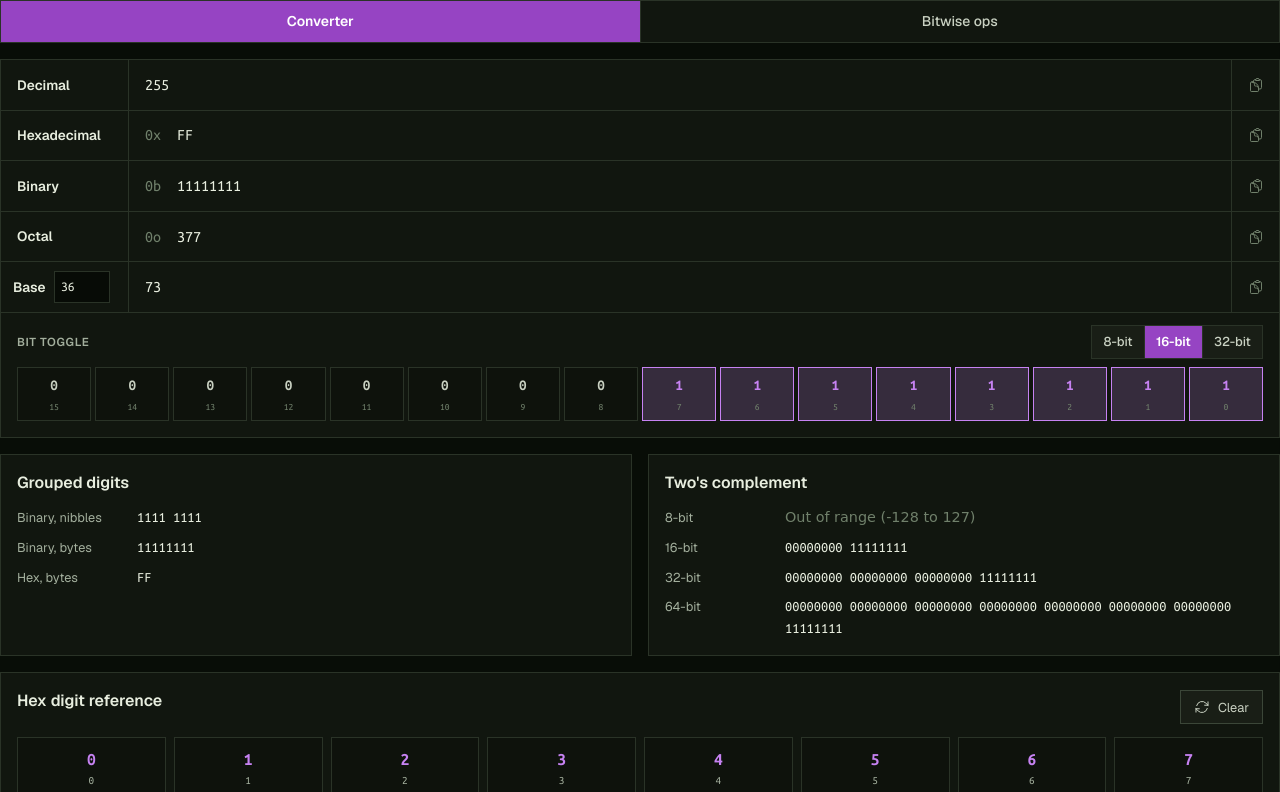
Number base converter › updates every base live and toggles bits
Replace the text in the field labelled "Hexadecimal" with "1F" at (696, 135), box x1=161 y1=111 x2=1231 y2=160
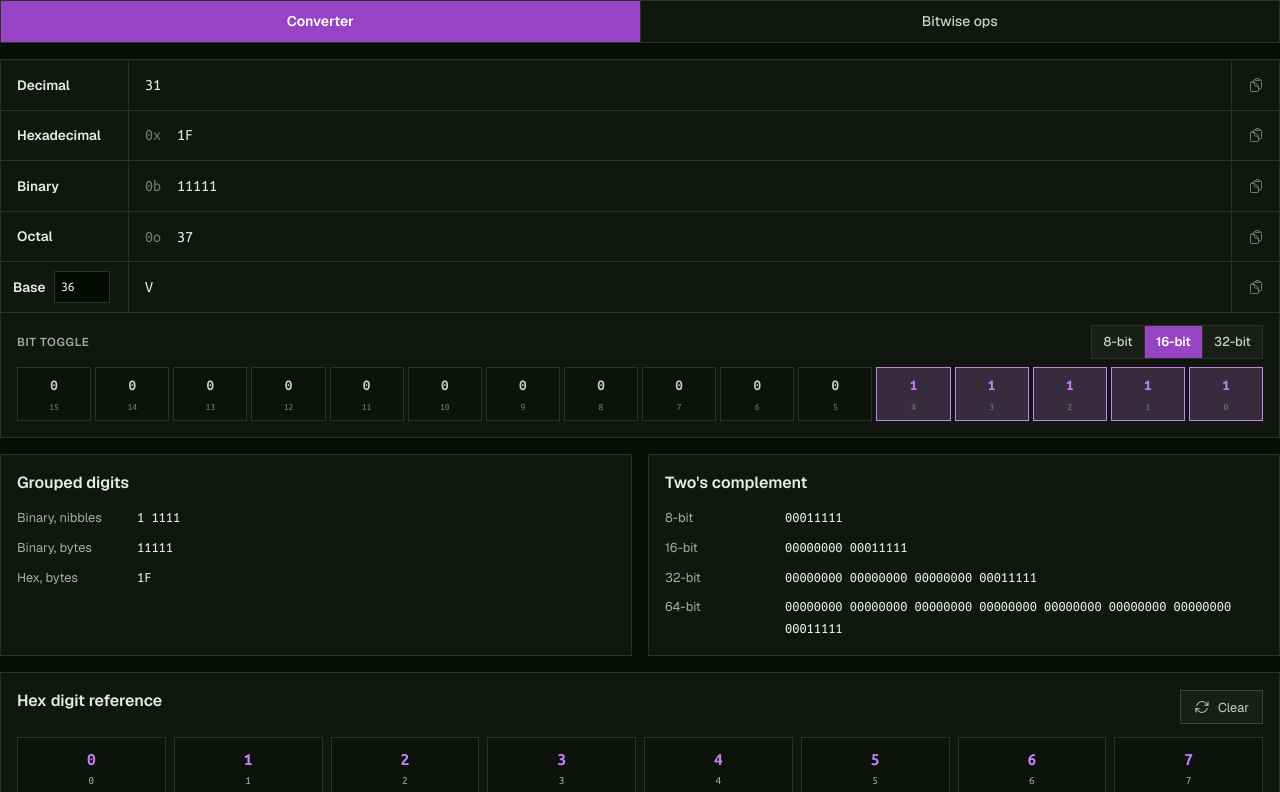
Result: the field labelled "Decimal" holds "31" at x1=129 y1=60 x2=1231 y2=110
Result: the field labelled "Binary" holds "11111" at x1=161 y1=161 x2=1231 y2=211
Click the button named "Bit 5, off" at (835, 394), box x1=798 y1=367 x2=872 y2=421
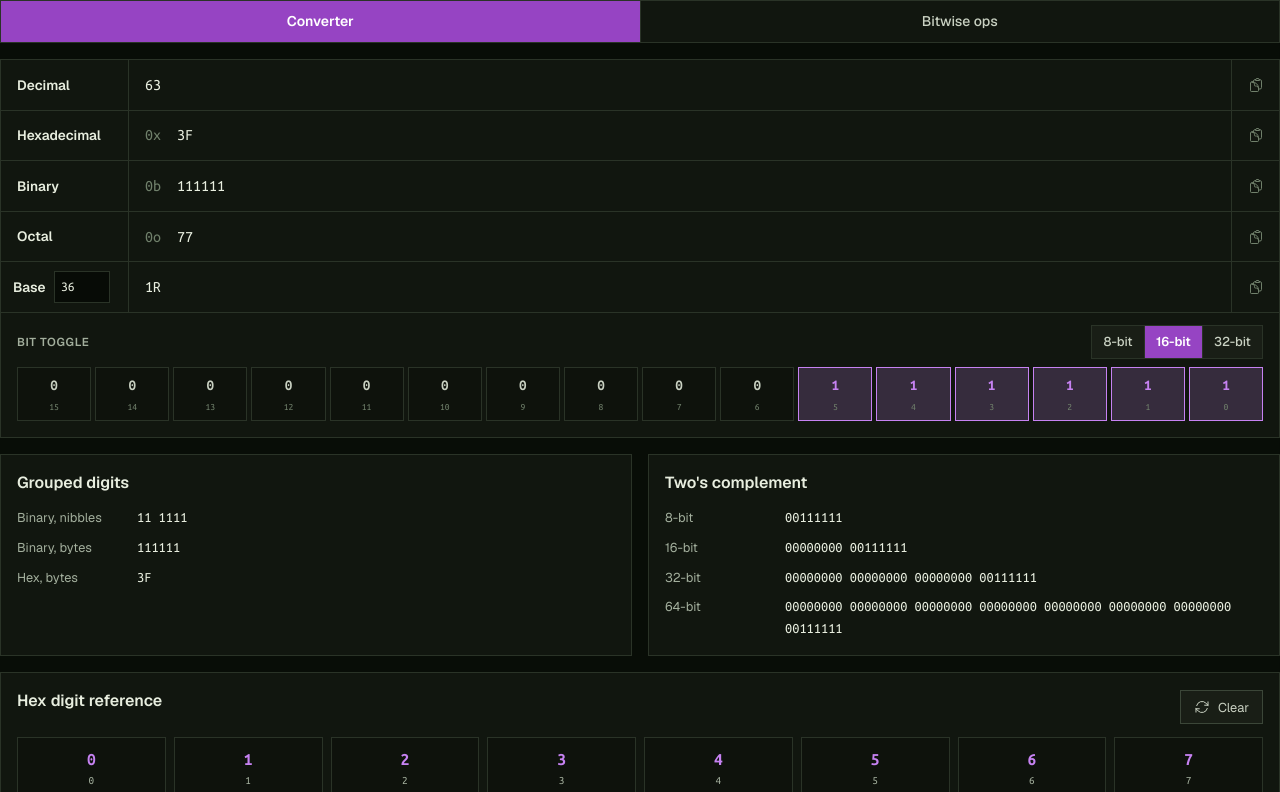
Result: the field labelled "Decimal" holds "63" at x1=129 y1=60 x2=1231 y2=110
Click the radio button labelled "Bitwise ops" at (960, 22), box x1=640 y1=1 x2=1279 y2=42
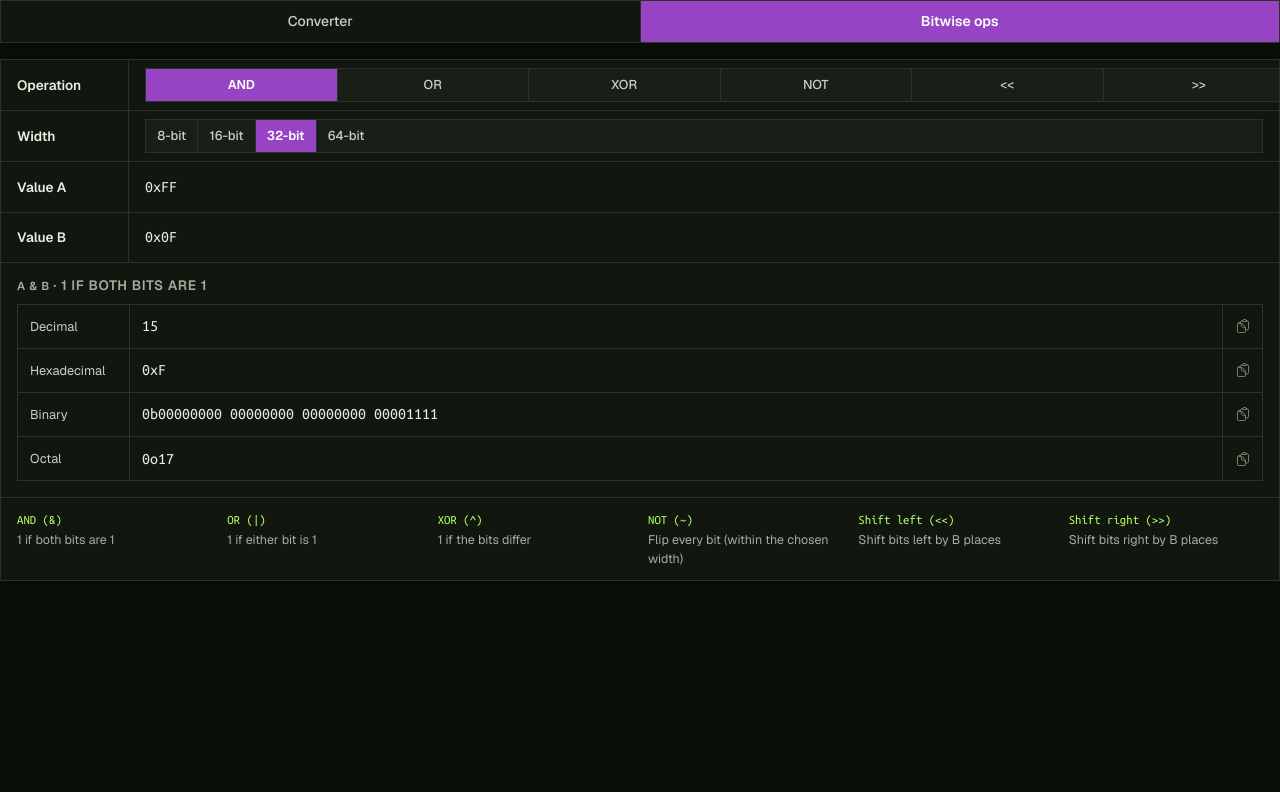
Result: the field labelled "Value A" is shown at x1=129 y1=162 x2=1231 y2=212
